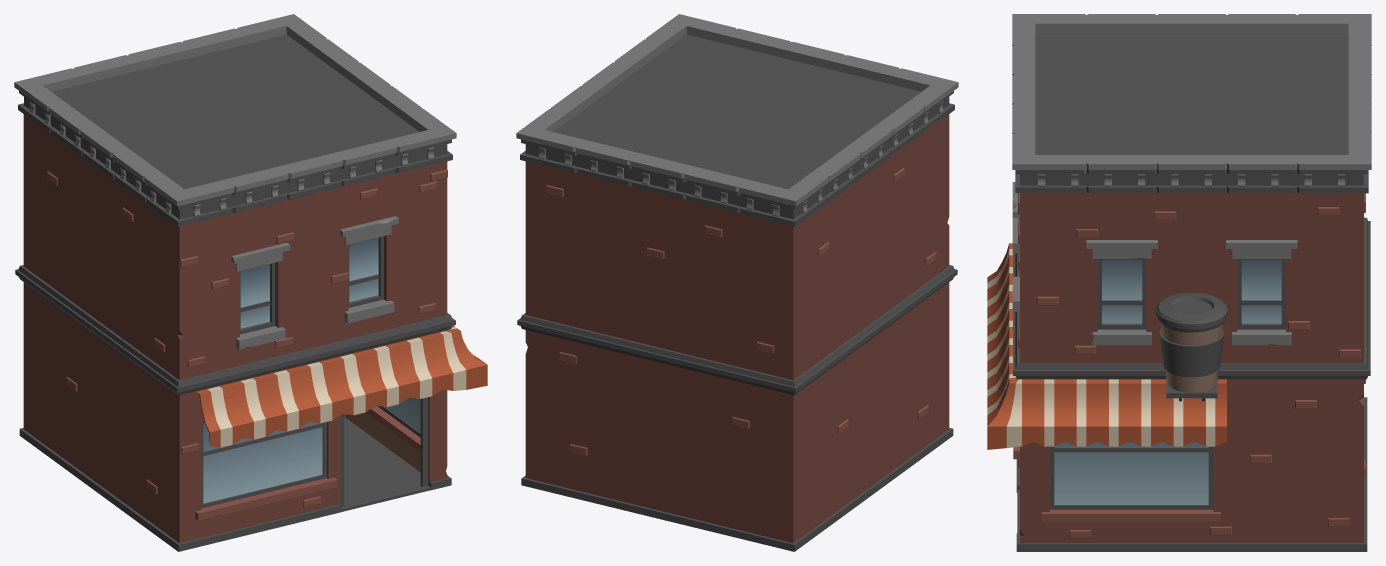
File: SM_Buildings_House_15_V1.fbx
3 views of the same model, side by side, from view 1: azimuth 30°, elevation 25°; view 2: azimuth 150°, elevation 25°; view 3: azimuth 270°, elevation 25° (orthographic). The views are drawn at different scales.
Visible parts, largest first — view 1: SM_Buildings_House_15_V1; view 2: SM_Buildings_House_15_V1; view 3: SM_Buildings_House_15_V1.
Part boxes in pixels (bbox=[...]): SM_Buildings_House_15_V1: bbox=[14, 14, 487, 551]; SM_Buildings_House_15_V1: bbox=[516, 14, 958, 551]; SM_Buildings_House_15_V1: bbox=[987, 14, 1371, 551].
Size of the model in its own units: 6.5 by 6.49 by 5.8.
